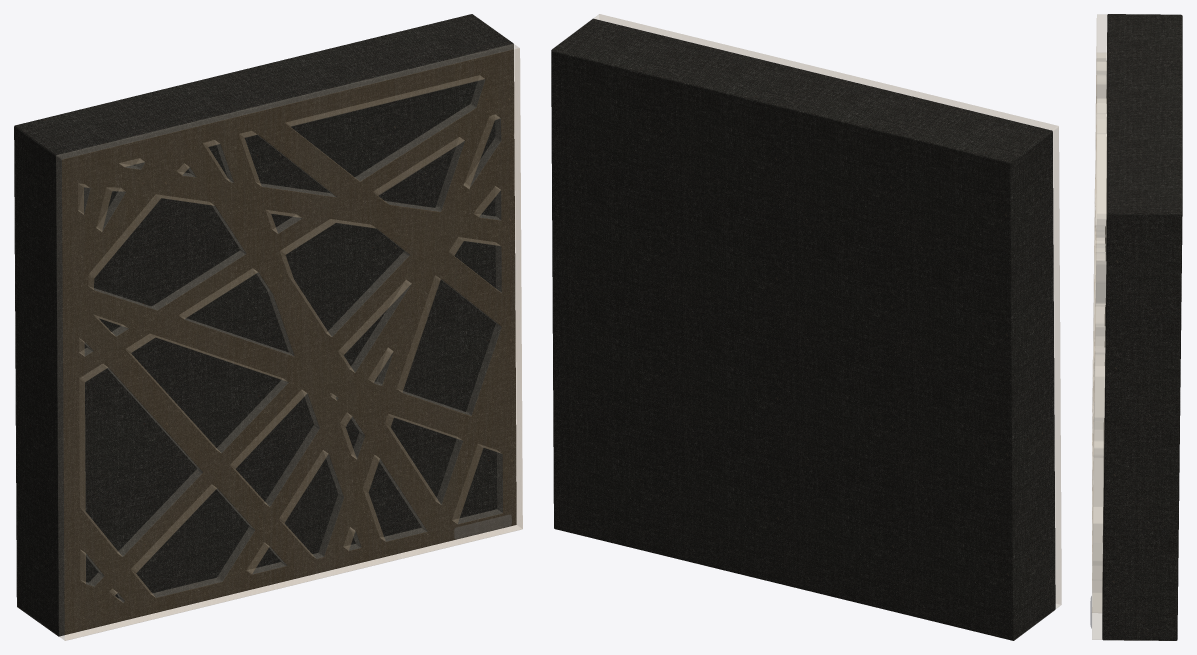
Rendered from WallArt.glb.
3 views of the same model, side by side, from view 1: azimuth 30°, elevation 25°; view 2: azimuth 150°, elevation 25°; view 3: azimuth 270°, elevation 25° (orthographic). The views are drawn at different scales.
Visible parts, largest first — view 1: WoodenPlate_Palomar; view 2: WoodenPlate_Palomar; view 3: WoodenPlate_Palomar.
Boxes of the visible parts, left/top/right/bottom form: WoodenPlate_Palomar: left=14, top=14, right=522, bottom=640; WoodenPlate_Palomar: left=551, top=14, right=1061, bottom=640; WoodenPlate_Palomar: left=1090, top=14, right=1182, bottom=640.
Bounding box in the file's own units: 2 × 2 × 0.39.
Materials: 5 (2 with a texture image).
